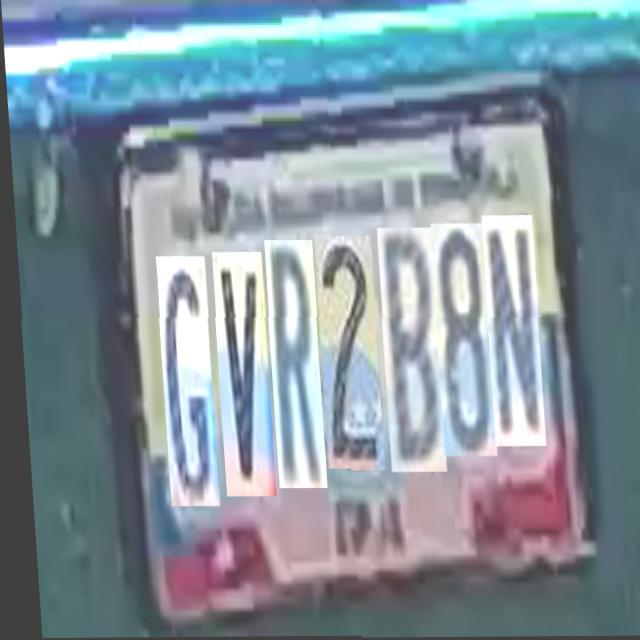2: (311, 236, 379, 471)
8: (427, 224, 492, 457)
B: (374, 228, 442, 472)
G: (152, 258, 214, 508)
N: (478, 216, 541, 447)
R: (262, 242, 322, 490)
V: (208, 254, 270, 498)
